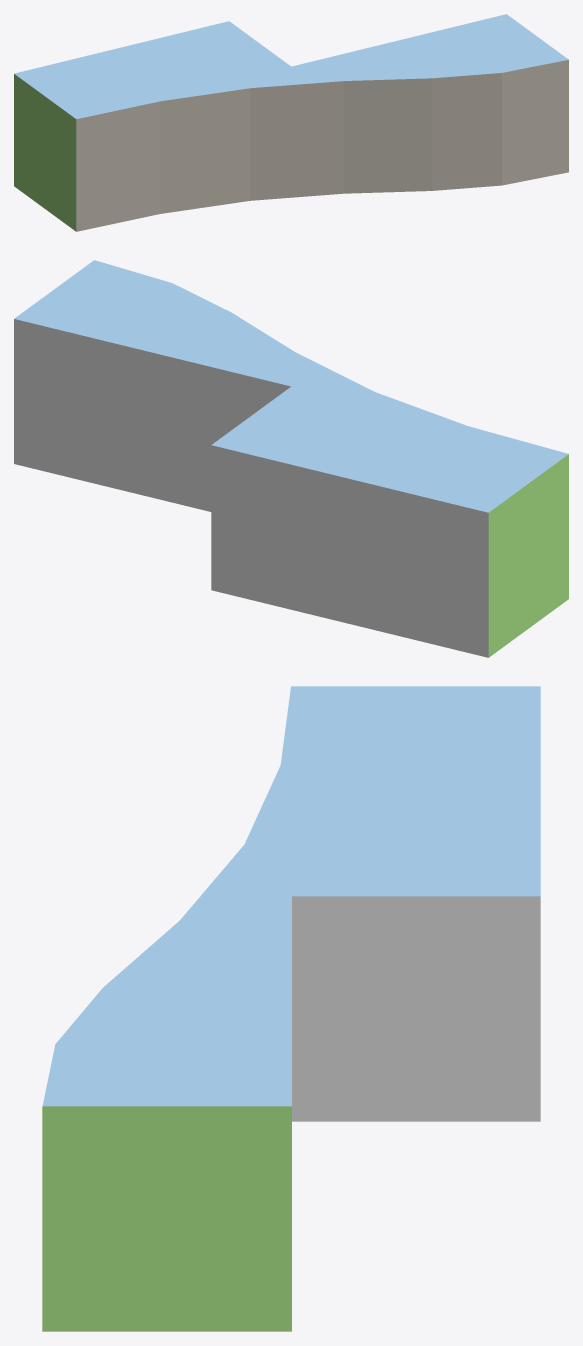
Rendered from Wall_Esse_3x4_Mid.glb.
3 renders of one model, top to bottom at view 1: azimuth 30°, elevation 25°; view 2: azimuth 150°, elevation 25°; view 3: azimuth 270°, elevation 25°, orthographic. The views are drawn at different scales.
Parts seen in each view (by area): view 1: Wall_Esse_3x4_Mid; view 2: Wall_Esse_3x4_Mid; view 3: Wall_Esse_3x4_Mid.
Boxes of the visible parts, x1,y1,x2,y2 form: Wall_Esse_3x4_Mid: (14,14,568,231); Wall_Esse_3x4_Mid: (14,260,568,657); Wall_Esse_3x4_Mid: (42,686,540,1331).
Bounding box in the file's own units: 400 × 100 × 200.
